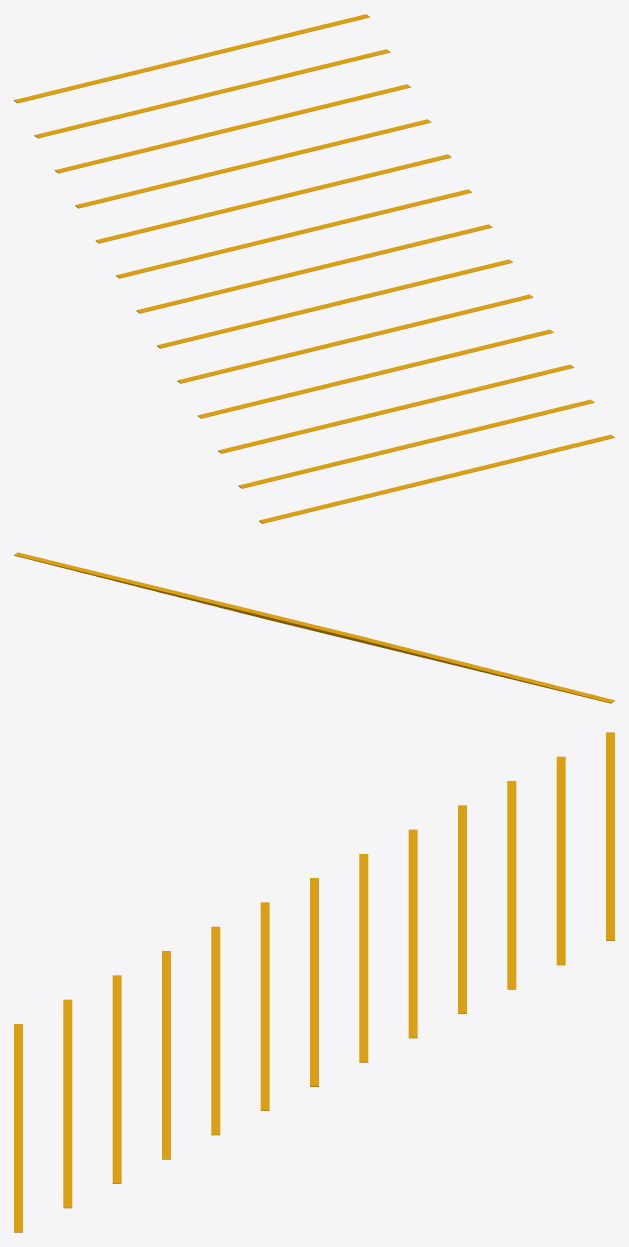
The model's file is gteki_ik_stair_n13_r163_t300_w3008_nosing.glb.
The picture shows the model from 3 angles, top to bottom: view 1: azimuth 30°, elevation 25°; view 2: azimuth 150°, elevation 25°; view 3: azimuth 270°, elevation 25°; orthographic projection. The views are drawn at different scales.
Visible parts, largest first — view 1: VIS_nosings; view 2: VIS_nosings; view 3: VIS_nosings.
Boxes of the visible parts, x1=… form: VIS_nosings: x1=14, y1=14, x2=614, y2=523; VIS_nosings: x1=14, y1=552, x2=614, y2=703; VIS_nosings: x1=14, y1=732, x2=614, y2=1232.
Bounding box in the file's own units: 2.99 × 1.96 × 3.65.
